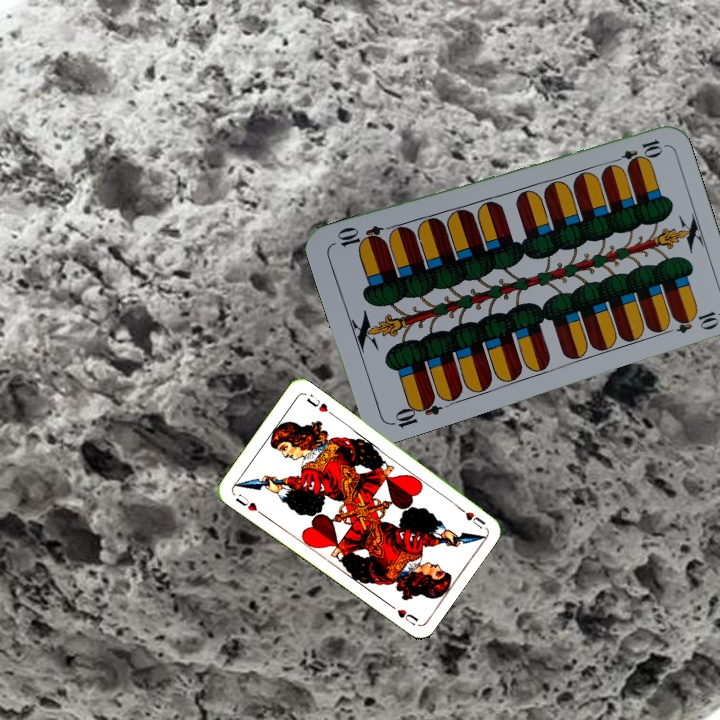E10: (386, 392, 444, 431), (607, 135, 665, 168)
HU: (453, 501, 488, 531), (231, 490, 265, 518)
